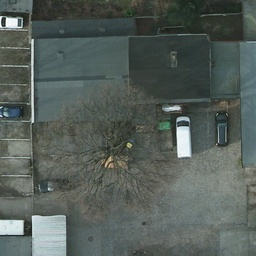car: (214, 112, 229, 145), (0, 15, 27, 29), (0, 103, 22, 120)
van: (174, 116, 194, 157)
